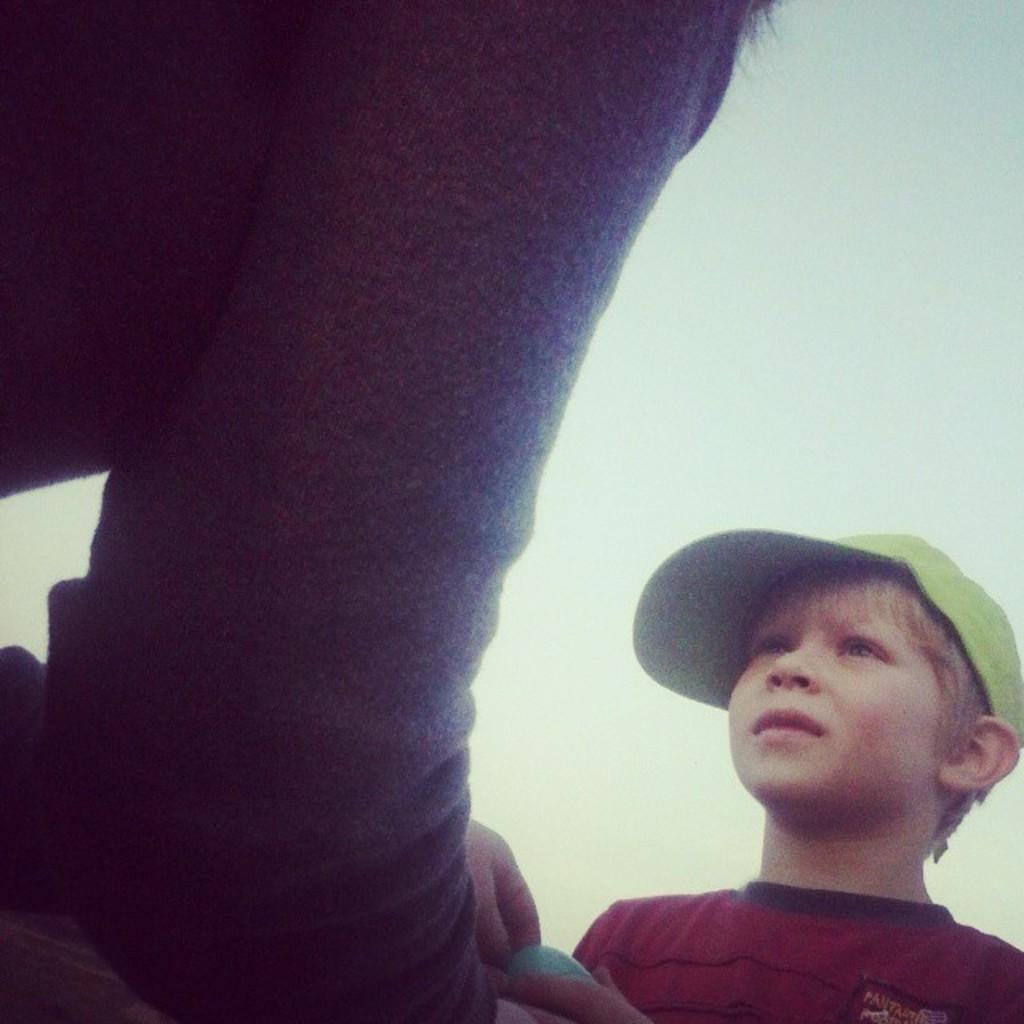Hat: (632, 528, 1022, 858)
